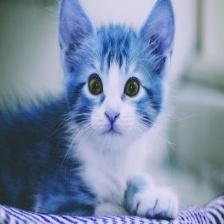kedo: (2, 1, 180, 217)
